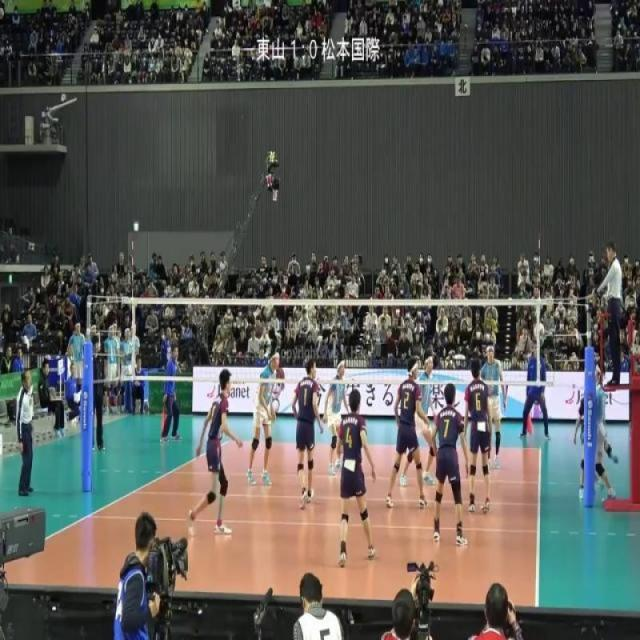volleyball: (533, 322, 545, 339)
